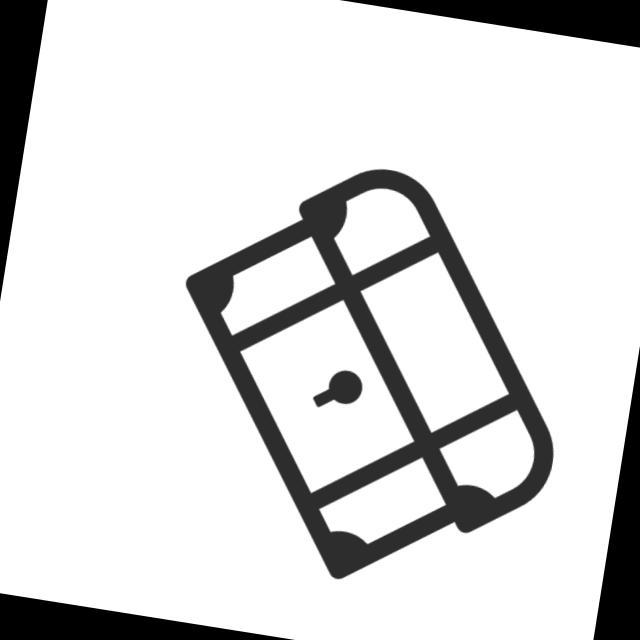treasure_box: (137, 133, 605, 618)
